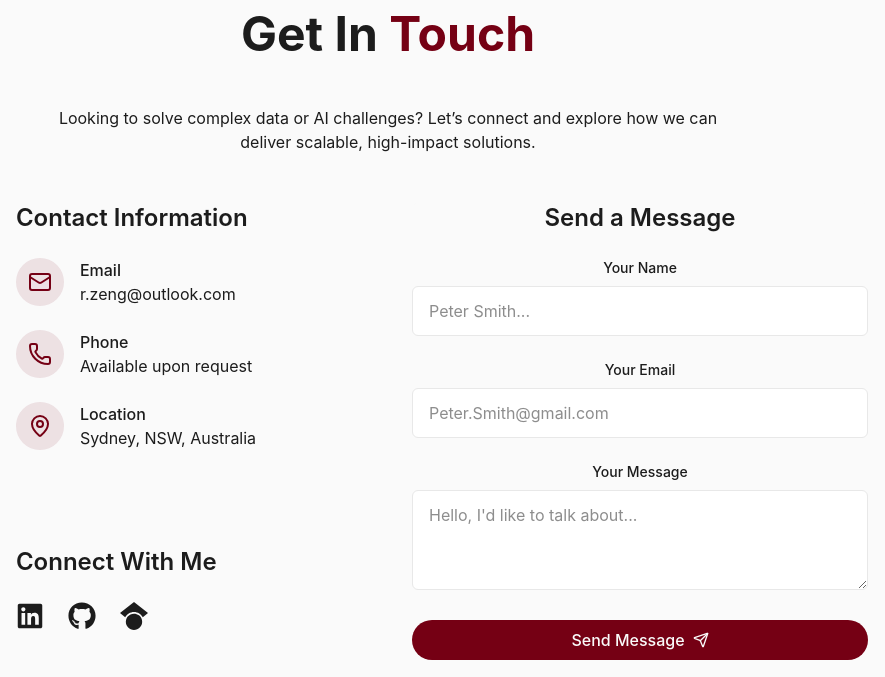
Scenario: ContactSection Component › prevents multiple submissions while processing
This screenshot has width=885, height=677.
Type "John Doe" into the field labelled "Your Name" at (640, 311), box left=412, top=286, right=868, bottom=336
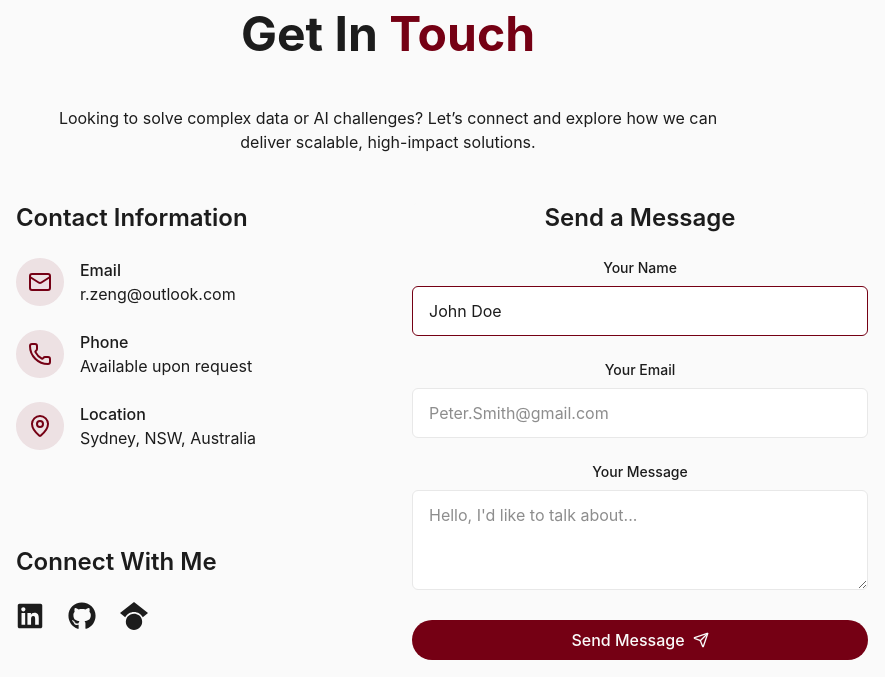
Type "john.doe@example.com" into the field labelled "Your Email" at (640, 413), box left=412, top=388, right=868, bottom=438
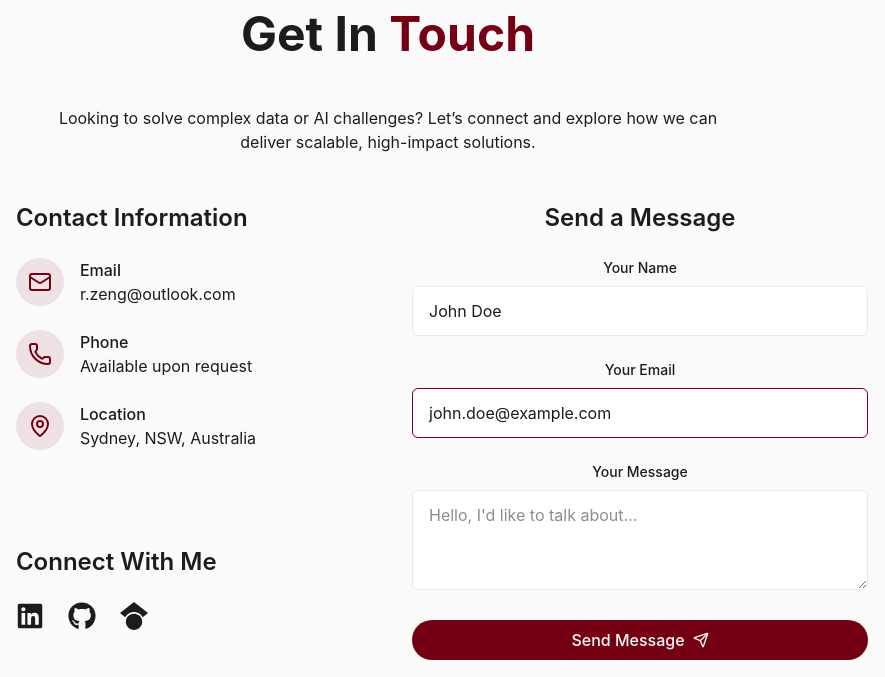
Type "This is a test message with more than 10 characters." into the text box labelled "Your Message" at (640, 540), box left=412, top=490, right=868, bottom=590
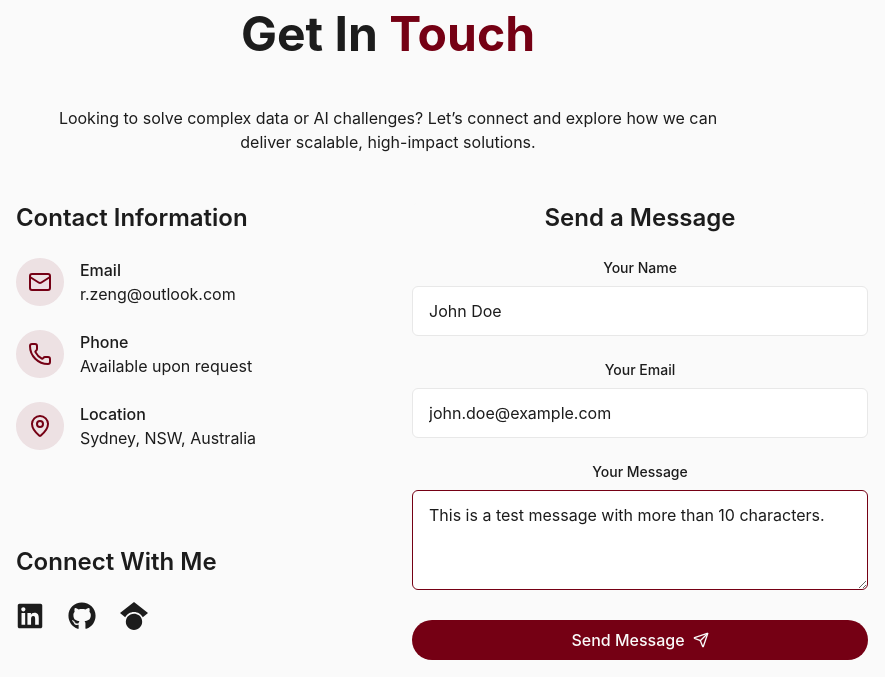
Click the button "Send Message" at (640, 640), box left=412, top=620, right=868, bottom=660
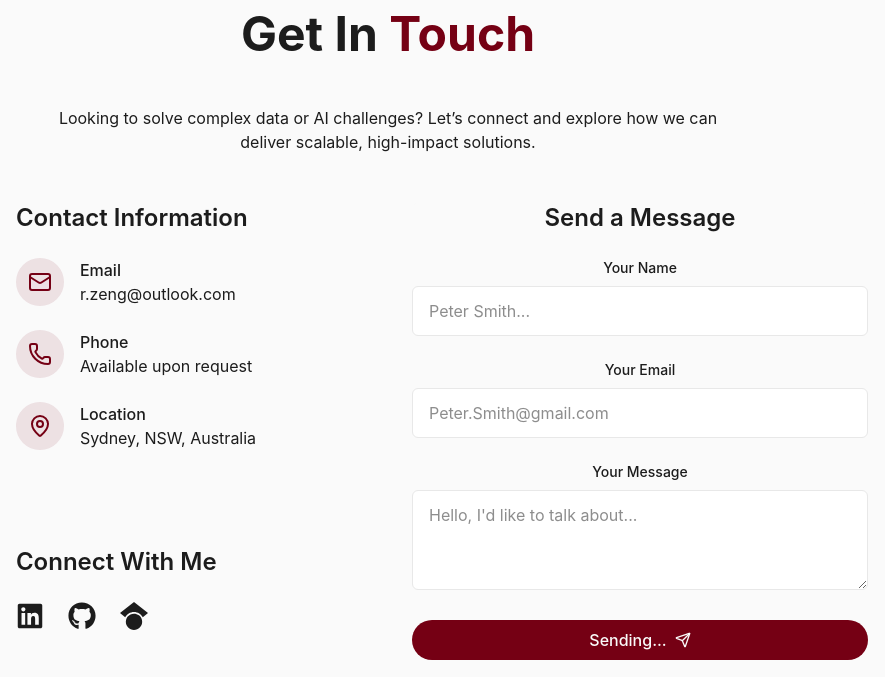
Expected: the button named "send message" is disabled, left=412, top=620, right=868, bottom=660
